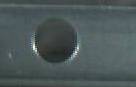holes: (29, 16, 81, 65)
